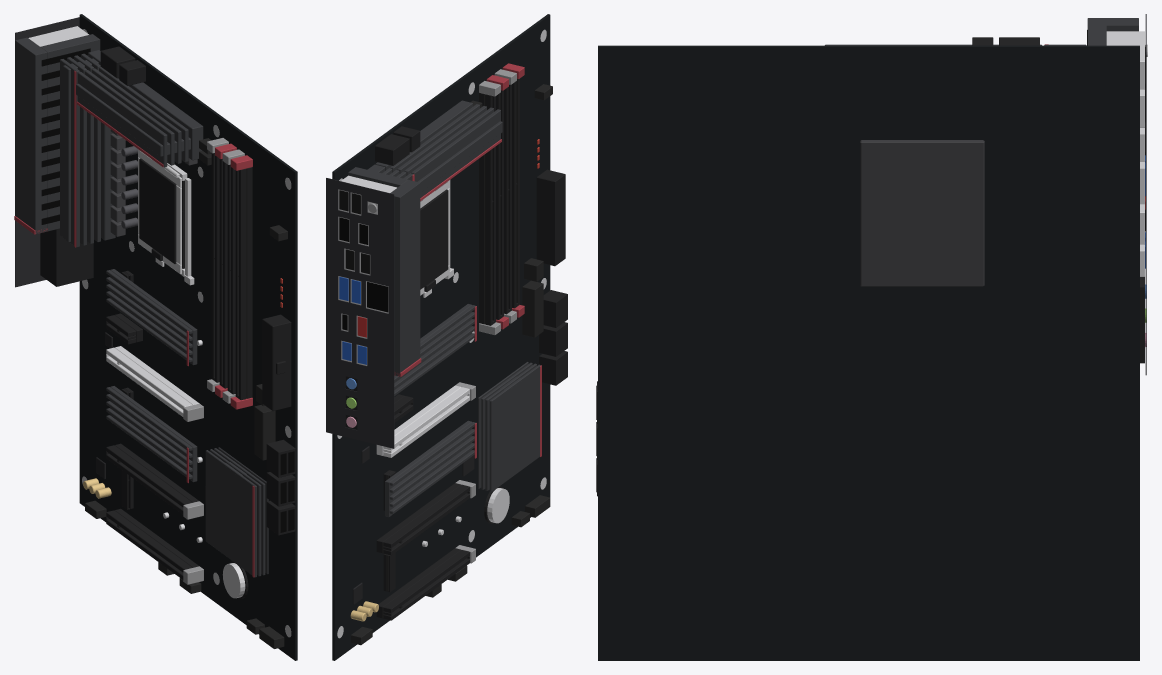
Rendered from MB_LGA1700_ATX01.glb.
3 views of the same model, side by side, from view 1: azimuth 30°, elevation 25°; view 2: azimuth 150°, elevation 25°; view 3: azimuth 270°, elevation 25° (orthographic). The views are drawn at different scales.
Parts seen in each view (by area): view 1: PCB, IO_Cover, VRM_Heatsink_Left, VRM_Heatsink_Top, Chipset_Heatsink, DIMM_B2, M2_0_Heatsink, M2_1_Heatsink, Socket_Cover, Board_Components, Rear_IO, Headers (+15 smaller); view 2: PCB, IO_Shield, Chipset_Heatsink, IO_Cover, VRM_Heatsink_Top, Rear_IO, DIMM_A1, M2_1_Heatsink, Headers, Power_ATX24, M2_0_Heatsink, Socket_Cover (+13 smaller); view 3: PCB, CPU_Backplate, Rear_IO, IO_Cover.
Boxes of the visible parts, <box> form: PCB: <box>79,14,297,660</box>; IO_Cover: <box>14,34,100,234</box>; VRM_Heatsink_Left: <box>60,50,115,247</box>; VRM_Heatsink_Top: <box>76,67,203,167</box>; Chipset_Heatsink: <box>205,447,268,577</box>; DIMM_B2: <box>230,155,252,409</box>; M2_0_Heatsink: <box>106,269,197,366</box>; M2_1_Heatsink: <box>106,386,197,483</box>; Socket_Cover: <box>139,158,176,263</box>; Board_Components: <box>83,129,282,504</box>; Rear_IO: <box>28,26,93,286</box>; Headers: <box>85,138,287,648</box>; PCB: <box>332,14,550,660</box>; IO_Shield: <box>326,178,394,448</box>; Chipset_Heatsink: <box>478,362,541,491</box>; IO_Cover: <box>348,167,421,376</box>; VRM_Heatsink_Top: <box>375,100,502,201</box>; Rear_IO: <box>338,175,396,429</box>; DIMM_A1: <box>479,81,500,334</box>; M2_1_Heatsink: <box>385,420,476,516</box>; Headers: <box>351,84,552,645</box>; Power_ATX24: <box>536,169,565,266</box>; M2_0_Heatsink: <box>394,304,476,396</box>; Socket_Cover: <box>420,189,448,291</box>; PCB: <box>598,45,1139,660</box>; CPU_Backplate: <box>860,140,984,286</box>; Rear_IO: <box>1106,31,1147,363</box>; IO_Cover: <box>1087,18,1138,45</box>.
Size of the model in its own units: 0.0472 by 0.305 by 0.2483.
